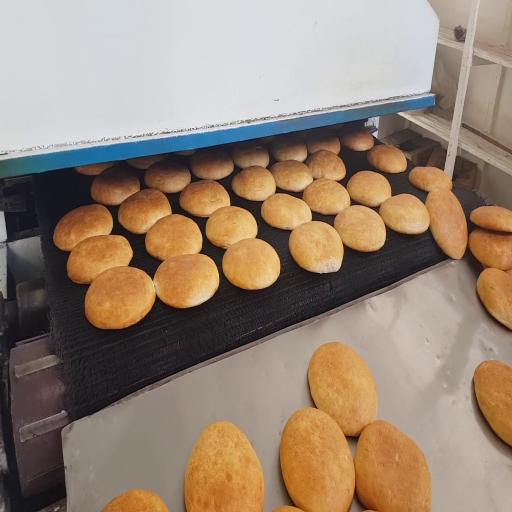bread: (280, 409, 355, 511), (185, 422, 264, 511), (354, 421, 431, 511), (308, 343, 377, 436), (85, 267, 155, 329), (154, 254, 219, 308), (67, 235, 133, 283), (474, 361, 511, 446), (426, 188, 467, 259), (223, 239, 280, 290), (289, 221, 343, 273), (54, 205, 113, 251), (146, 214, 202, 260), (334, 205, 386, 252), (118, 189, 171, 234), (206, 206, 257, 248), (477, 268, 511, 329), (379, 194, 429, 234), (91, 166, 140, 205), (180, 180, 230, 217), (468, 228, 511, 271), (261, 194, 311, 230), (303, 179, 350, 215), (347, 171, 391, 207), (232, 166, 275, 201), (145, 160, 190, 193), (103, 490, 167, 511), (270, 160, 313, 191), (191, 149, 233, 179), (306, 150, 346, 181), (367, 145, 406, 173), (470, 206, 511, 232), (409, 167, 452, 191), (231, 141, 269, 168), (271, 136, 307, 162), (305, 130, 340, 155), (339, 128, 373, 151), (126, 154, 168, 169), (75, 162, 118, 175), (273, 506, 300, 511), (175, 150, 195, 156)
